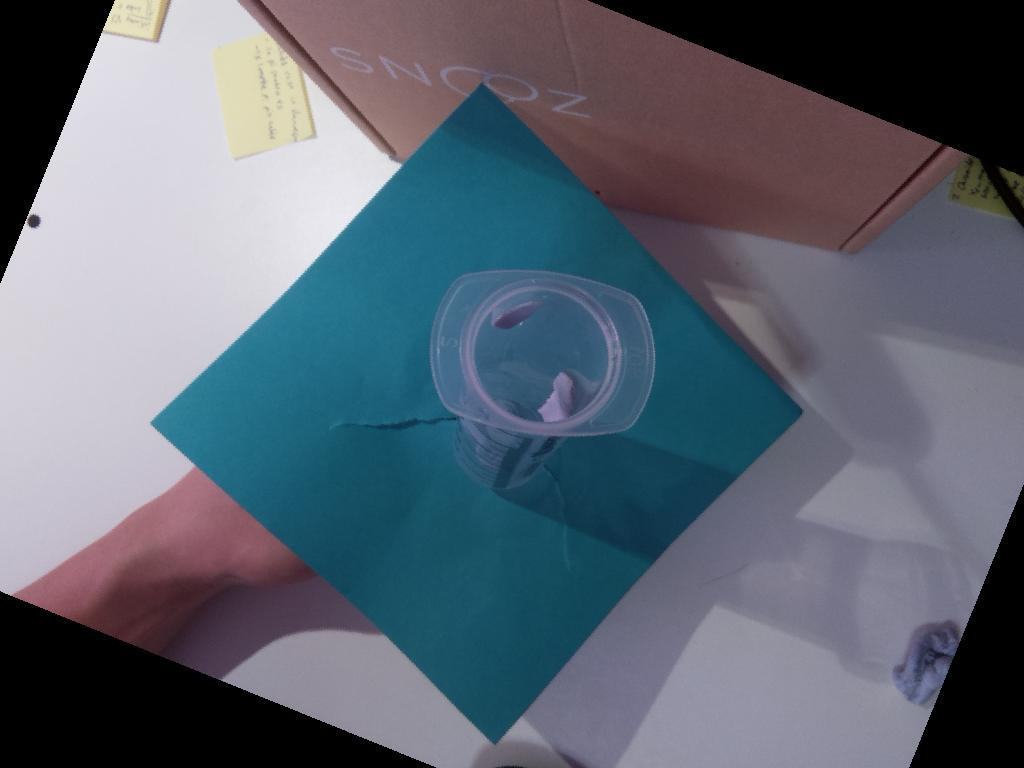dirty: (429, 270, 656, 436)
